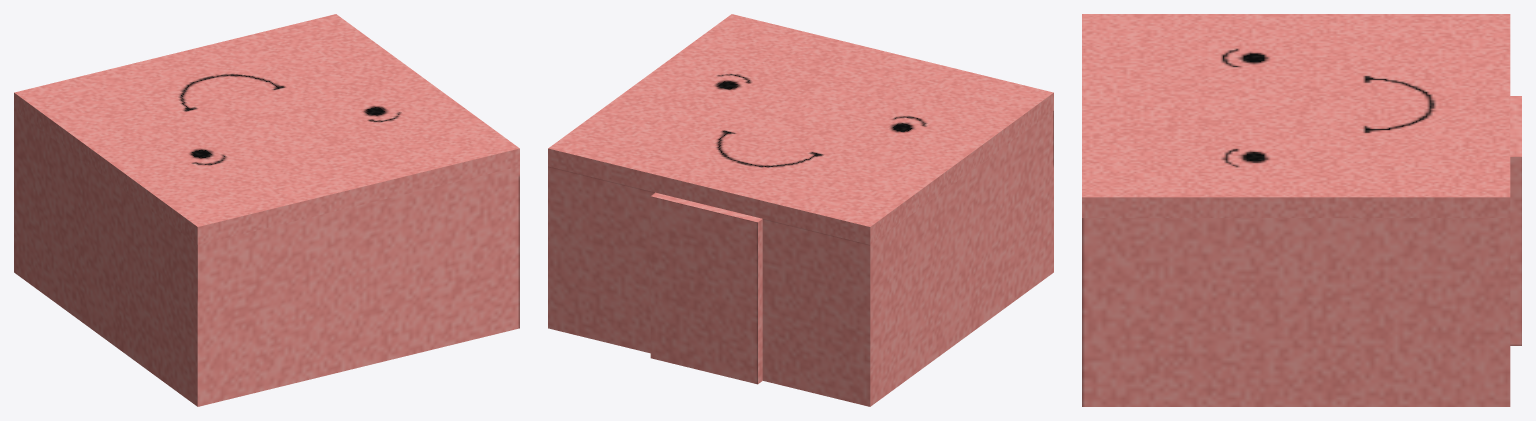
Rendered from ChestSmall.fbx.
The picture shows the model from 3 angles, left to right: view 1: azimuth 30°, elevation 25°; view 2: azimuth 150°, elevation 25°; view 3: azimuth 270°, elevation 25°; orthographic projection. The views are drawn at different scales.
Parts seen in each view (by area): view 1: Cube, Cube.001; view 2: Cube, Cube.001; view 3: Cube.001, Cube.
Part boxes in pixels (<box>): Cube: <box>14,111,519,406</box>; Cube.001: <box>14,14,519,244</box>; Cube: <box>548,111,1053,406</box>; Cube.001: <box>548,14,1053,244</box>; Cube.001: <box>1082,14,1510,217</box>; Cube: <box>1082,96,1521,406</box>.
Size of the model in its own units: 50.61 by 27.01 by 51.35.
